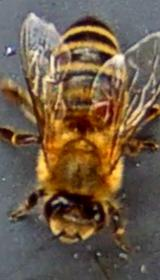varroa_mite: (83, 93, 116, 132)
